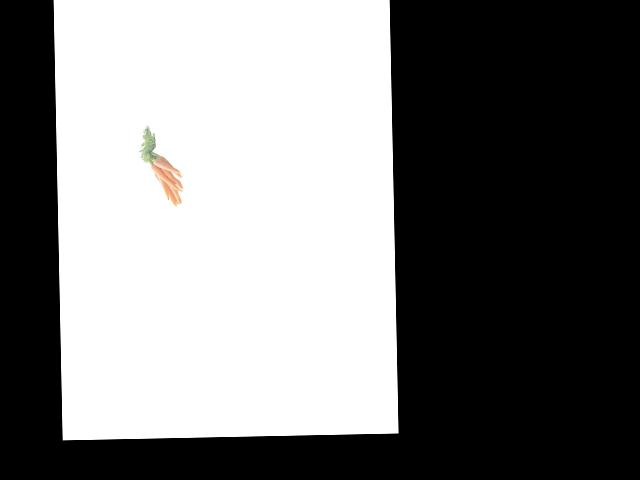carrot: (156, 154, 190, 172)
